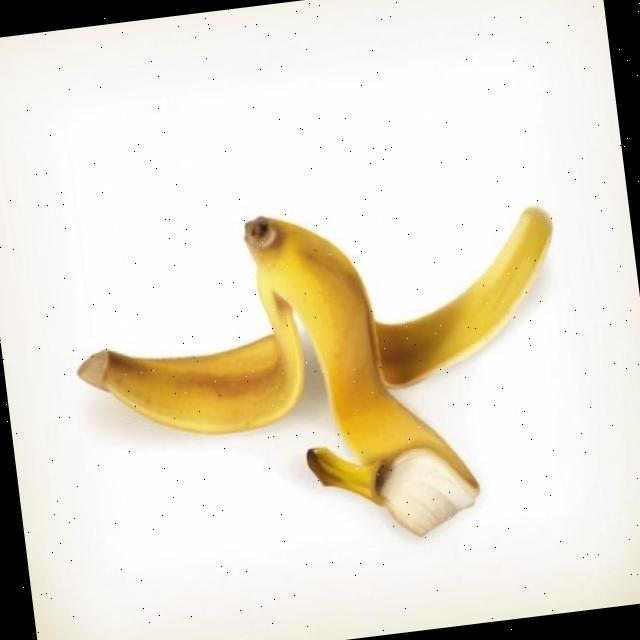banana-peel: (59, 177, 588, 576), (238, 191, 484, 554), (68, 276, 312, 451)
